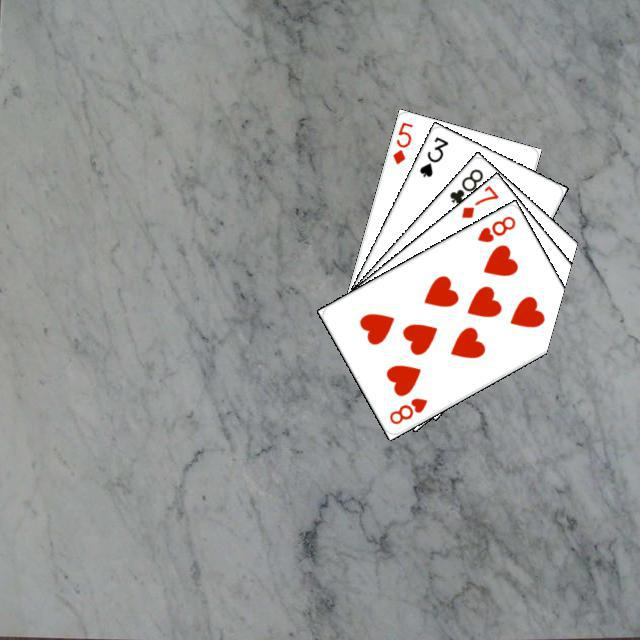3s: (414, 132, 450, 179)
5d: (387, 117, 414, 166)
7d: (456, 181, 500, 220)
8c: (444, 164, 485, 206)
8h: (472, 211, 517, 244), (384, 393, 429, 426)
